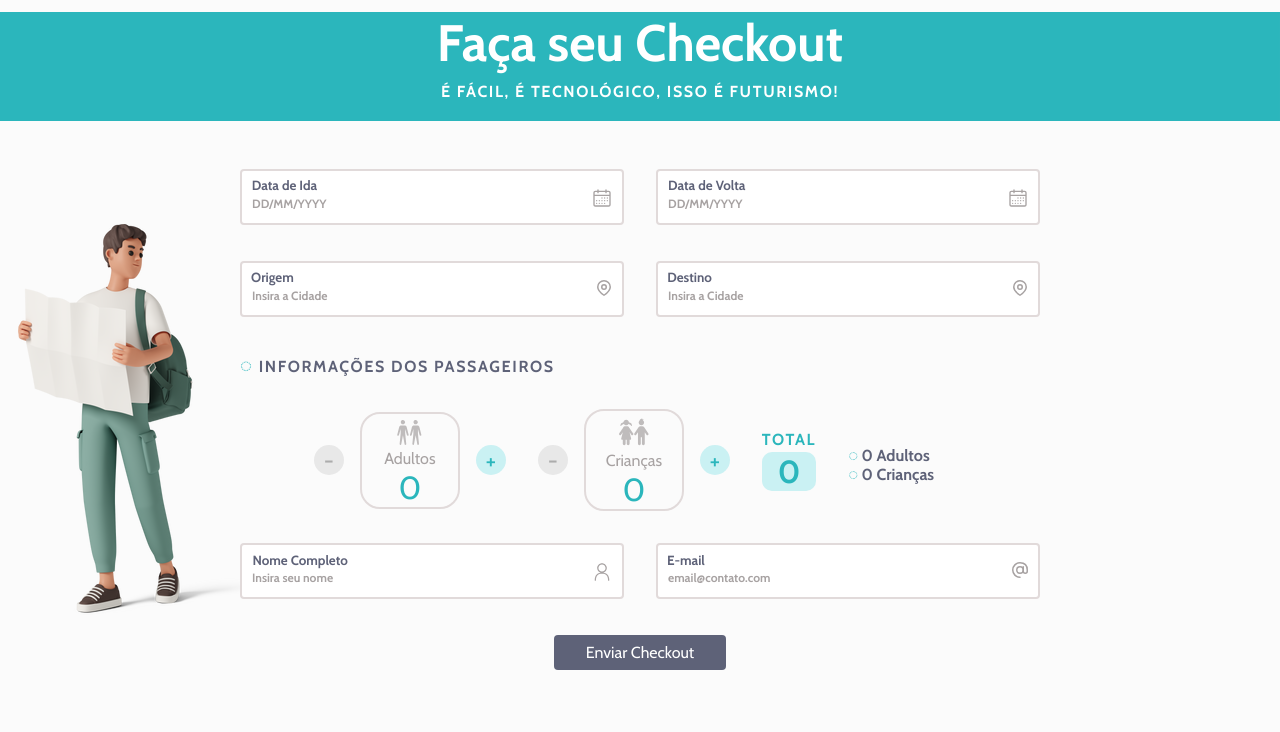
<DatePicker /> › should set selected date range when selecting dates from the date picker
The image size is (1280, 732).
Focus the field with placeholder "DD/MM/YYYY" next to "Data de Ida": point(432, 197) [240,169,624,225]
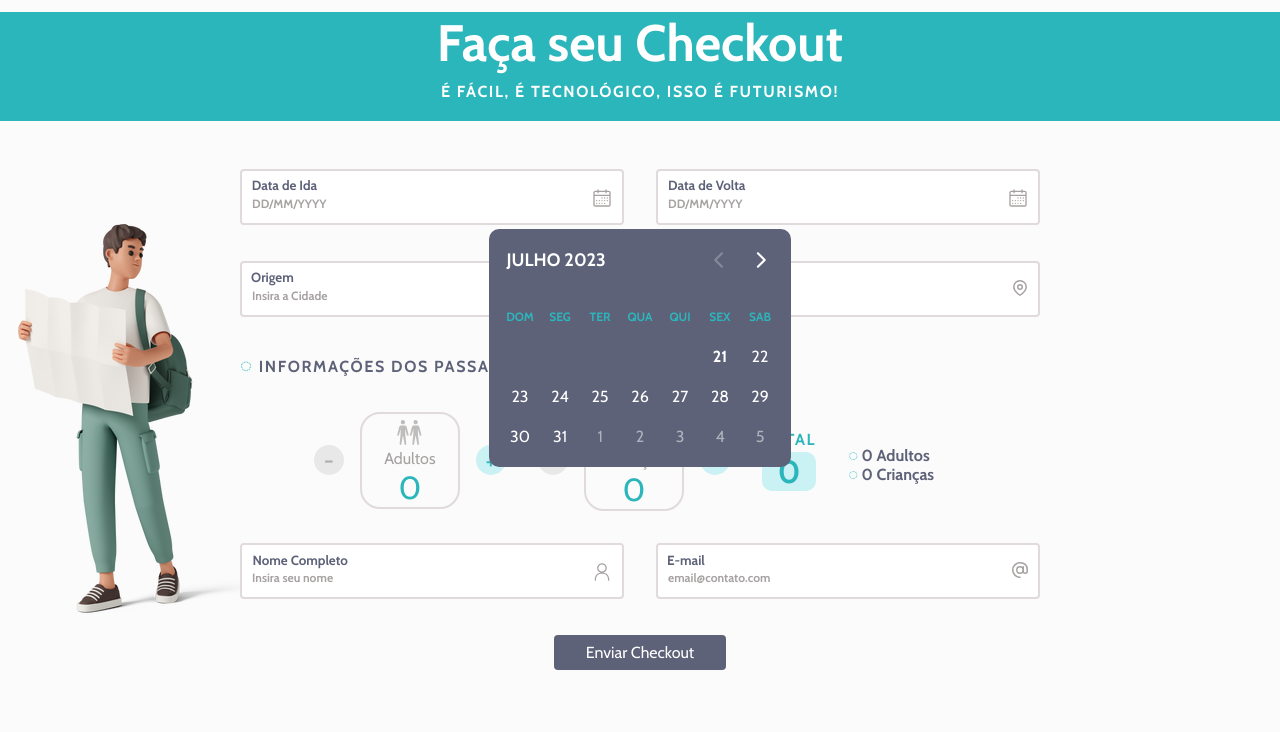
Click the cell "5": point(760, 436) [740,416,780,456]
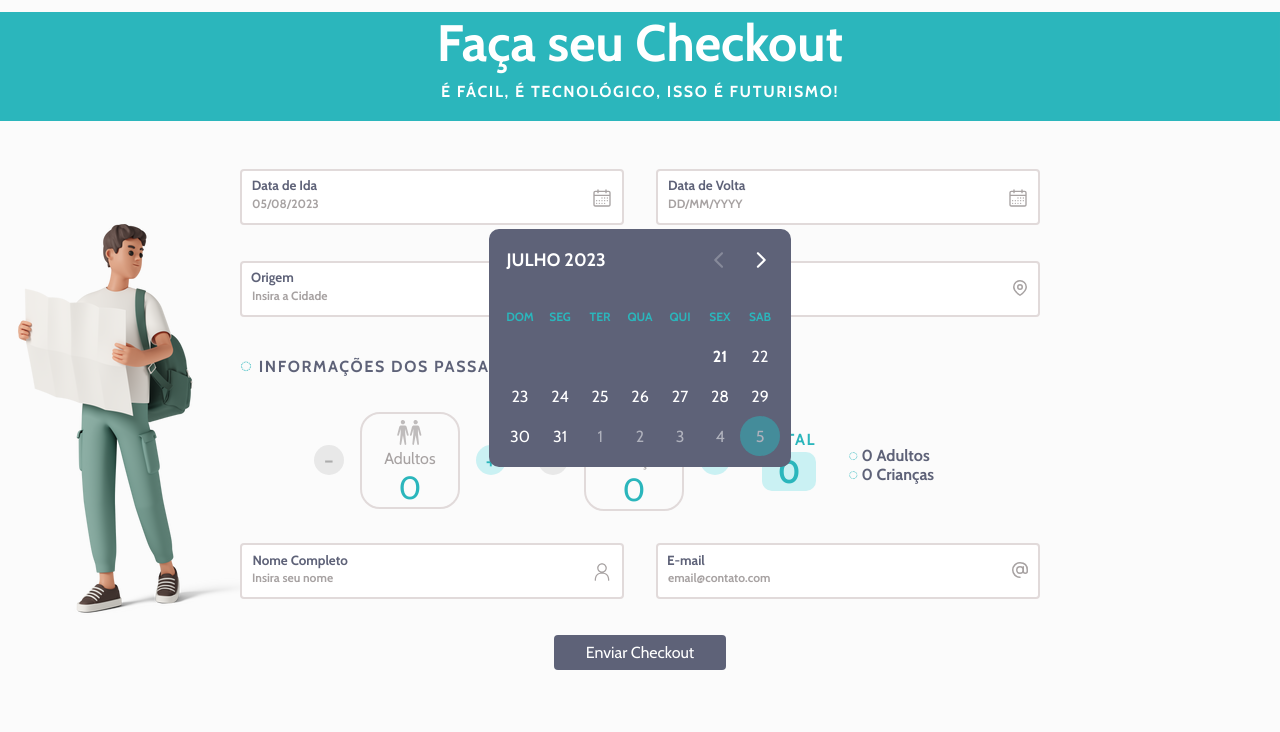
Click the cell "21": point(720, 356) [700,336,740,376]
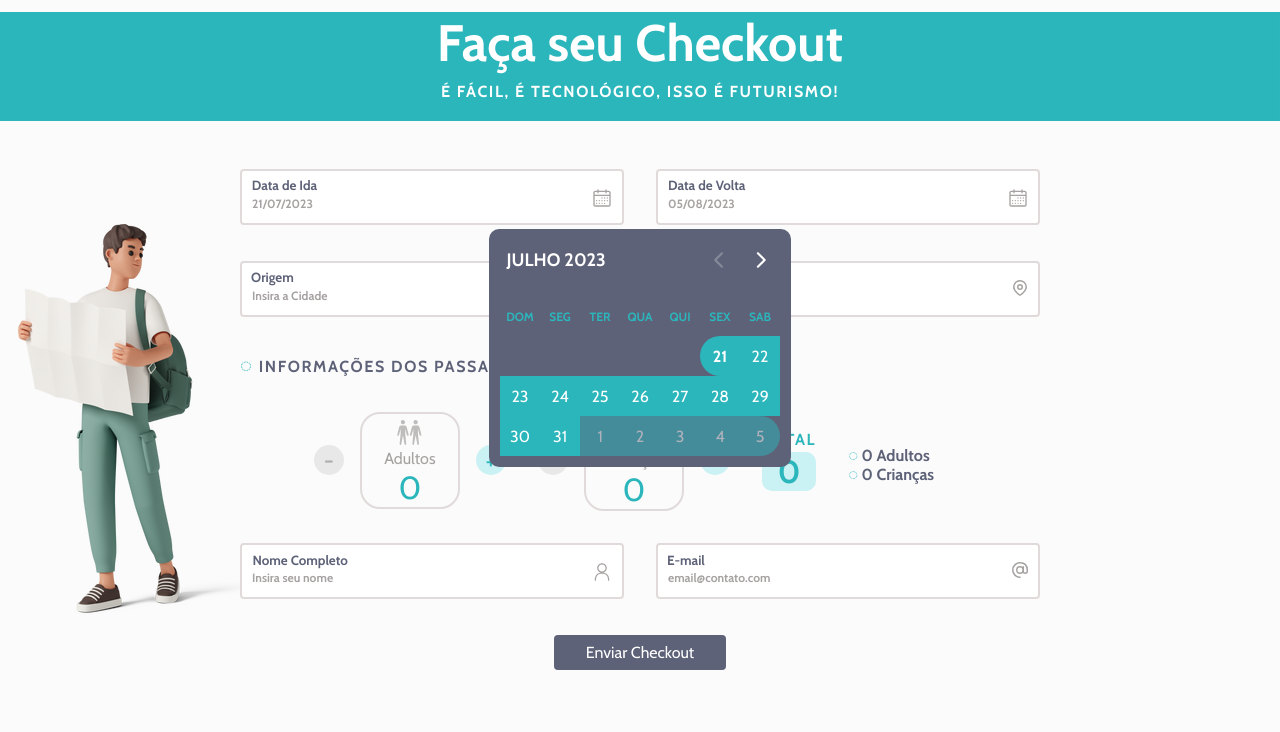
Check: the field with placeholder "DD/MM/YYYY" next to "Data de Ida" holds "21/07/2023", box [240,169,624,225]
Check: the field with placeholder "DD/MM/YYYY" next to "Data de Volta" holds "05/08/2023", box [656,169,1040,225]
